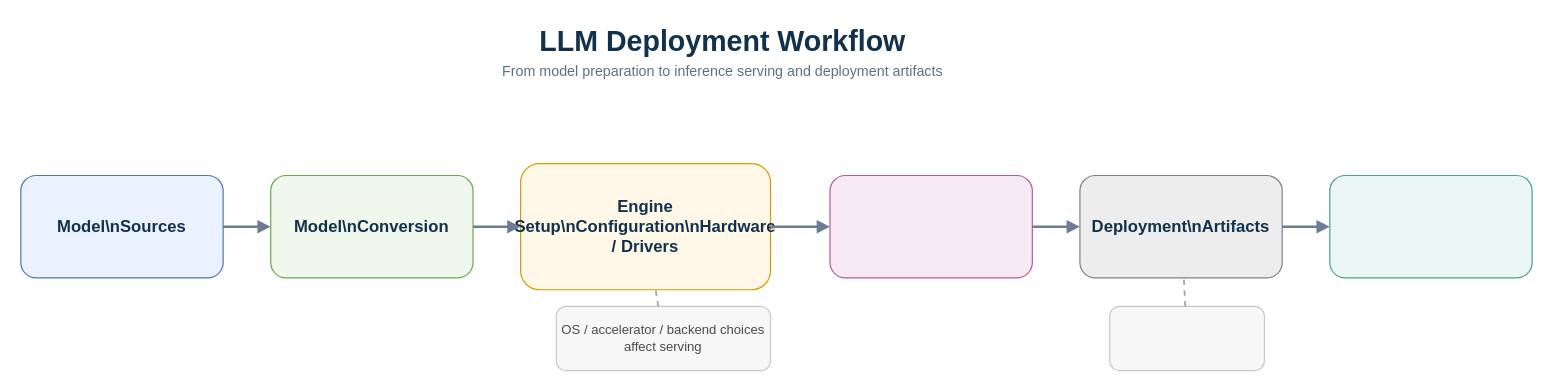
Image size: 1559x392. Some labels were removed from this diagram. Each missing label, with the centre of its shape:
"Build, packaging, and deployment outputs" goes at point 1186,338.
"Downstream\nApplications" goes at point 1430,226.
"Inference /\nServing" goes at point 930,226.
